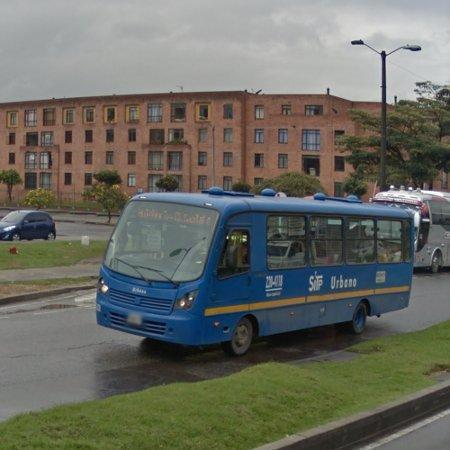buses: (97, 187, 415, 356)
